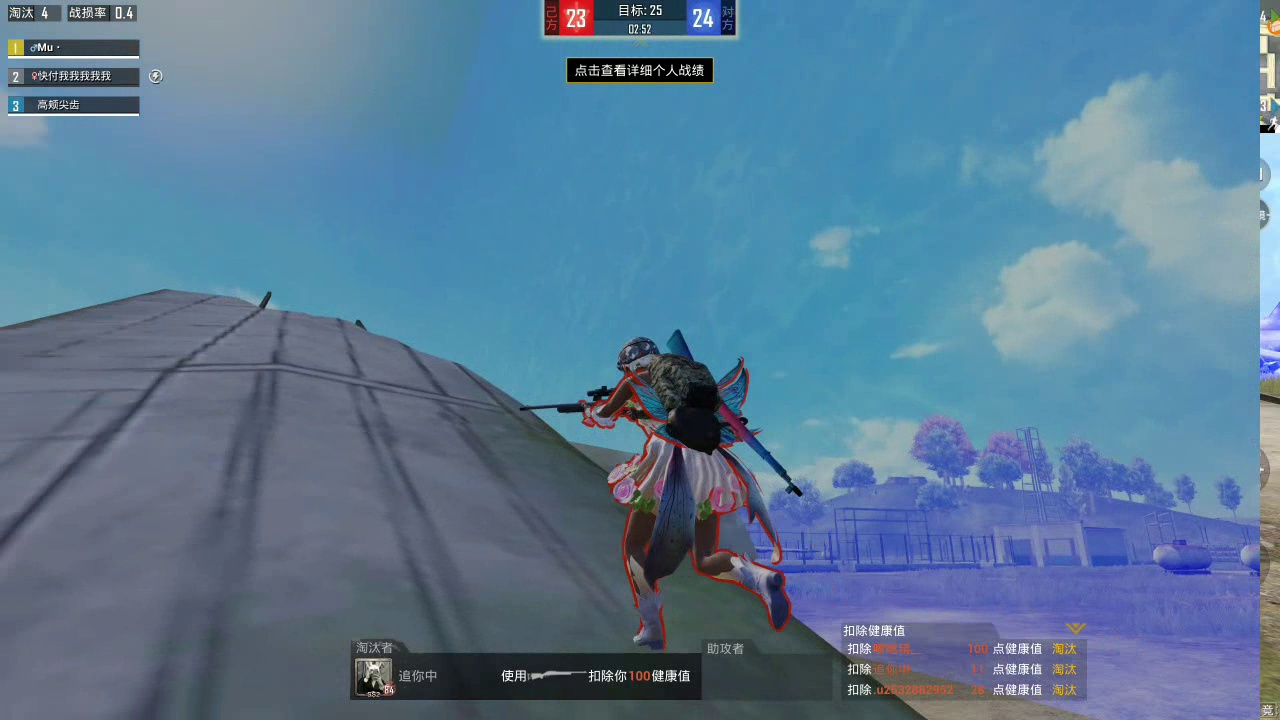enemy: (600, 337, 794, 640)
